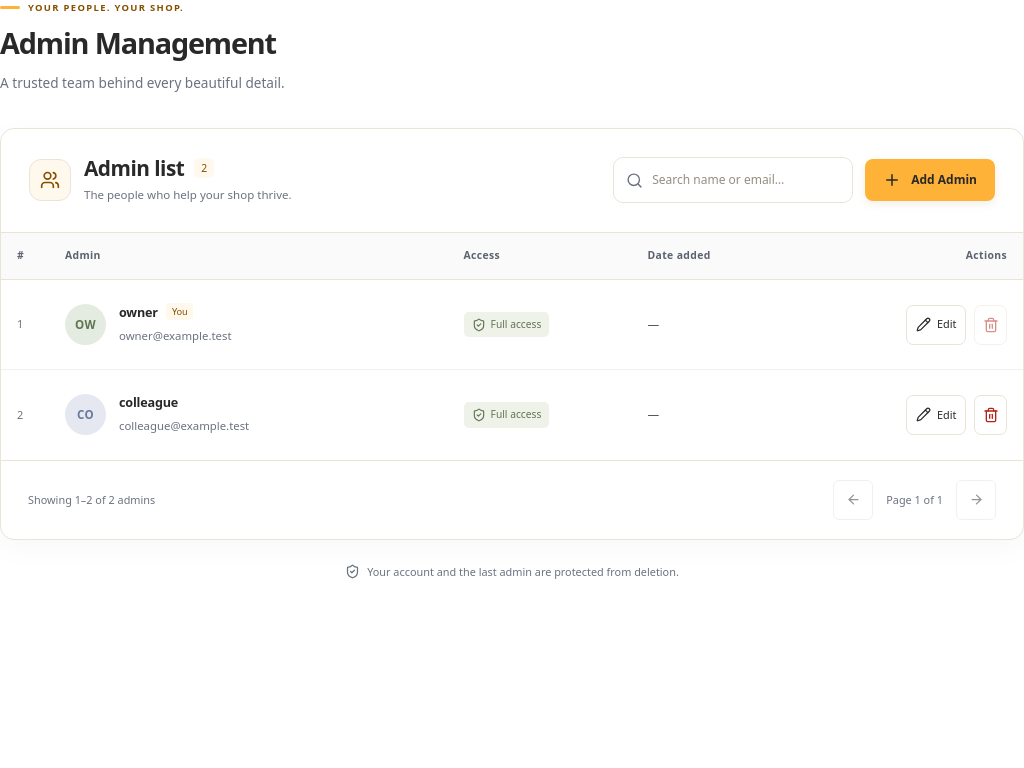
Test case: changes the selected admin password and shows server errors
The width and height of the screenshot is (1024, 768).
Click the button with aria-label "Edit admin colleague": (936, 415) [906, 395, 966, 435]
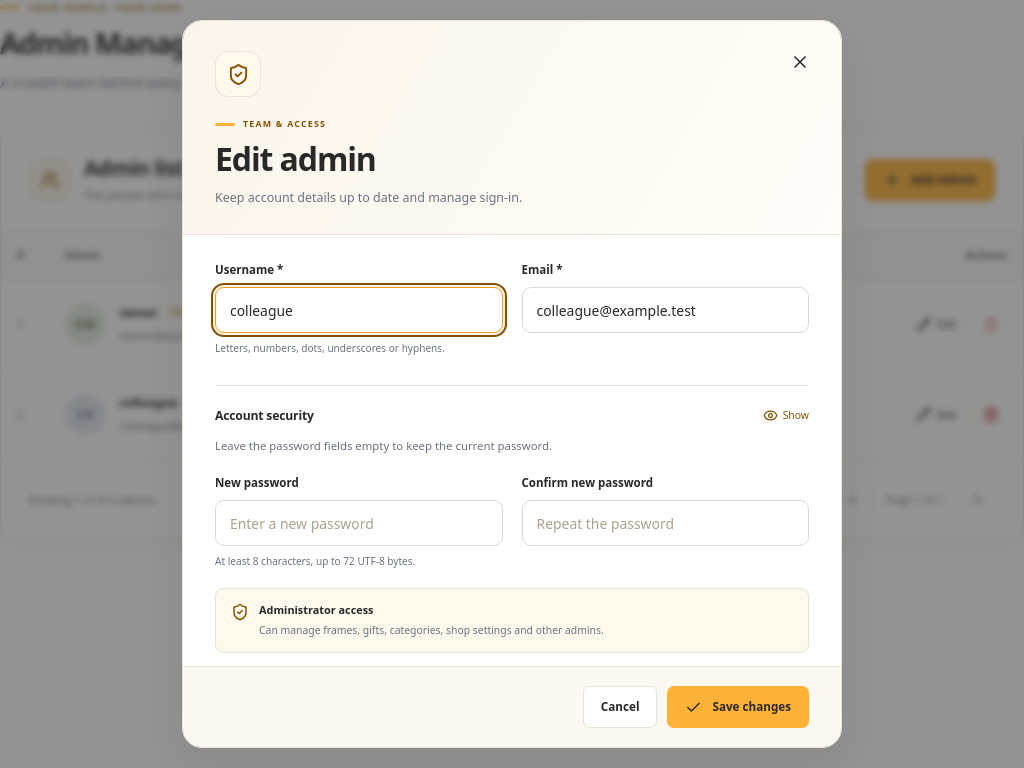
In the password field labelled "New password": (359, 523) [215, 500, 502, 546], type "replacement-password"
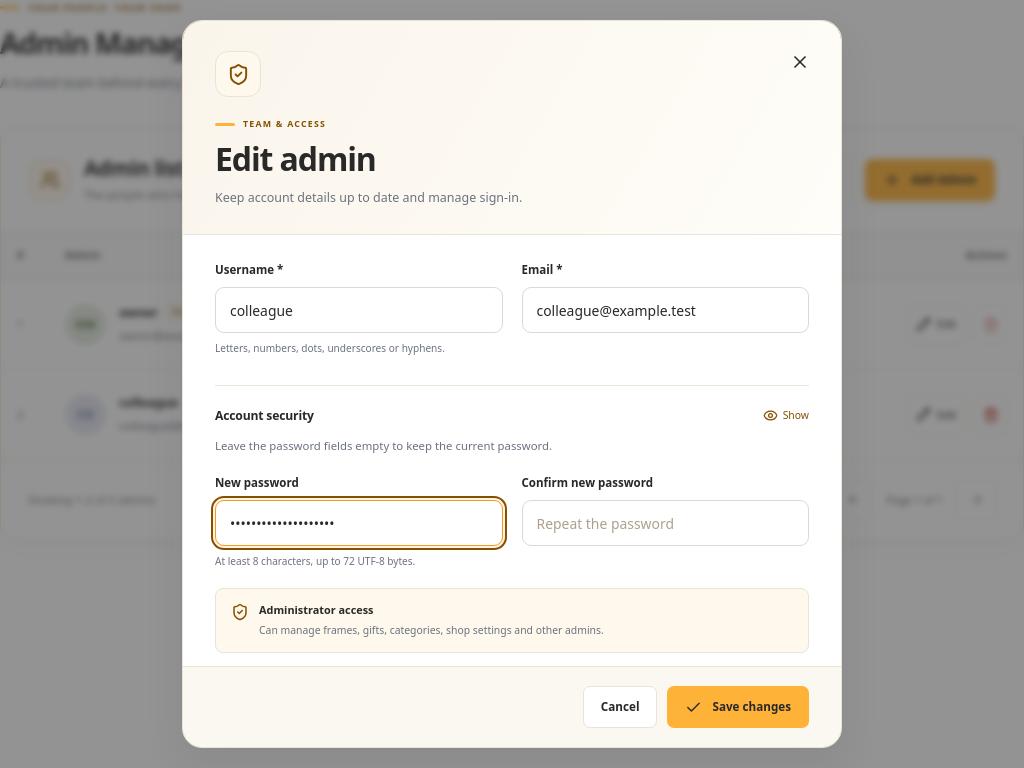
In the password field labelled "Confirm new password": (665, 523) [522, 500, 809, 546], type "replacement-password"
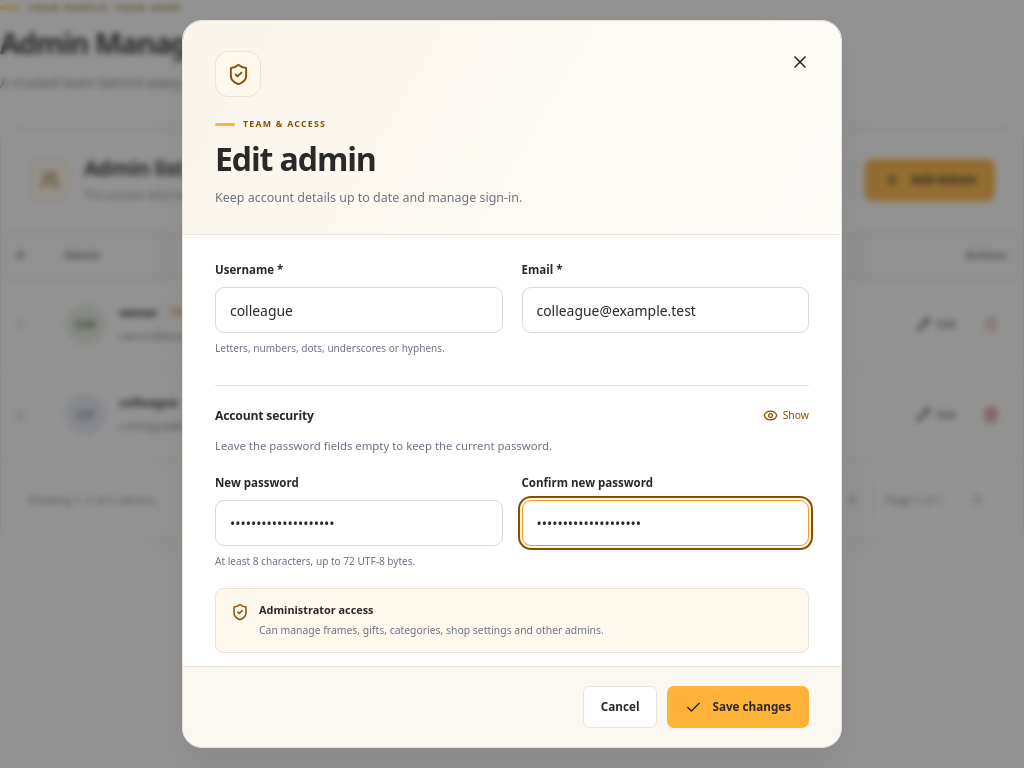
Click the button "Save changes": (738, 707) [668, 686, 809, 728]
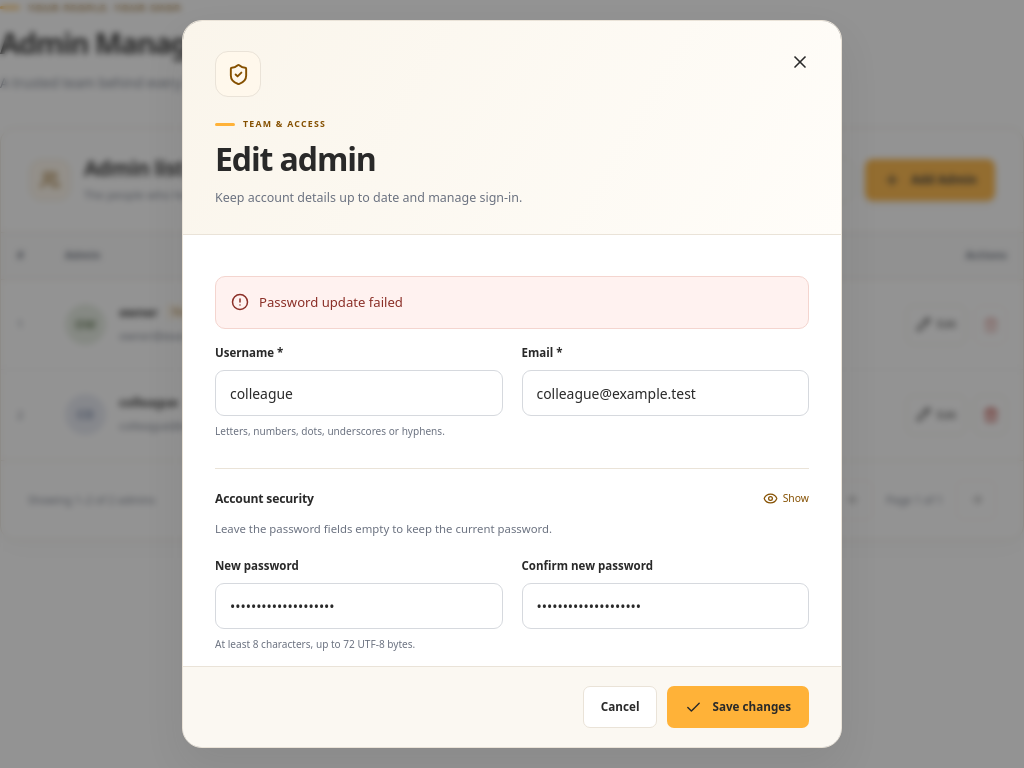
Expected: the text "Password update failed" is shown, [259, 292, 403, 313]
Click the button "Save changes": (738, 707) [668, 686, 809, 728]
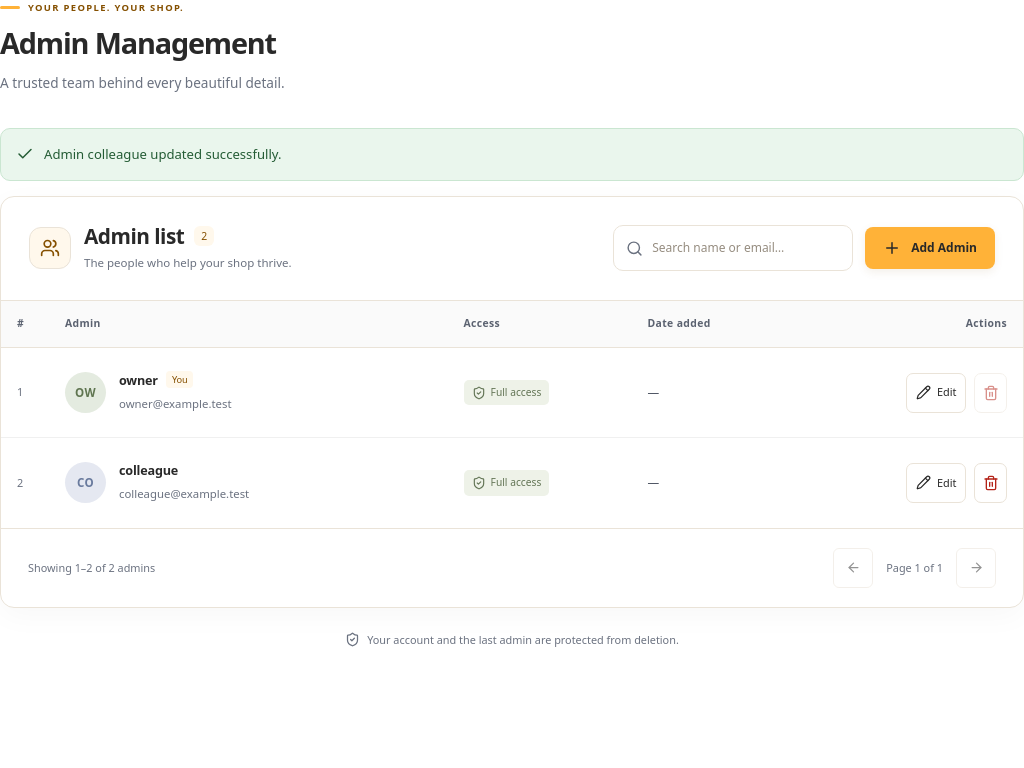
Expected: the text "Admin colleague updated successfully." is shown, [0, 128, 1023, 180]
